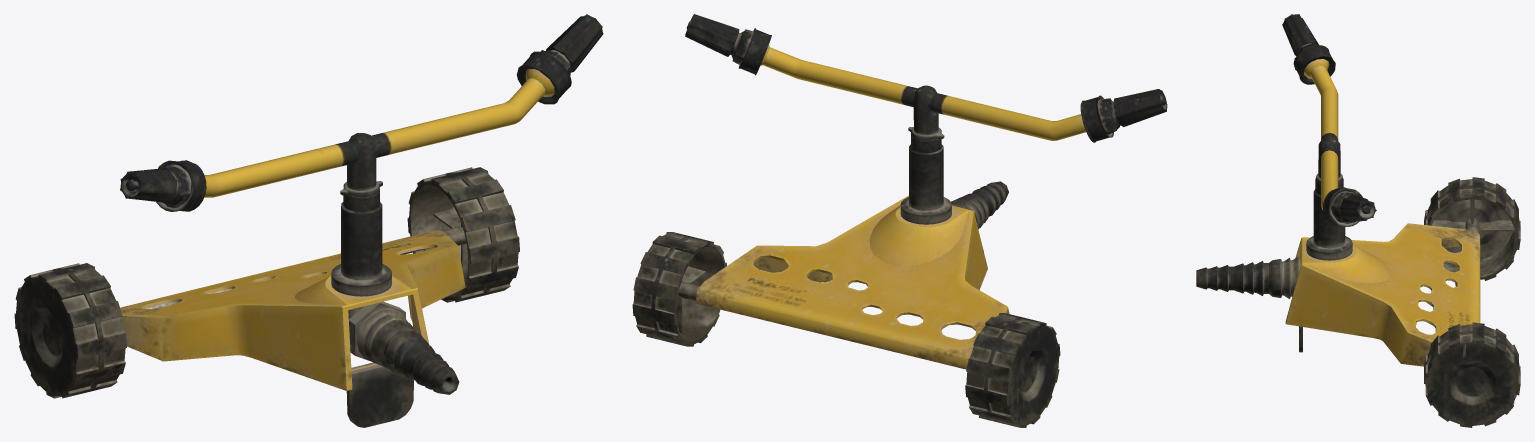
Rendered from sprinkler.glb.
3 renders of one model, left to right at view 1: azimuth 30°, elevation 25°; view 2: azimuth 150°, elevation 25°; view 3: azimuth 270°, elevation 25°, orthographic. The views are drawn at different scales.
Visible parts, largest first — view 1: garden_sprinkler_01_body_main; view 2: garden_sprinkler_01_body_main; view 3: garden_sprinkler_01_body_main.
Part boxes in pixels (x1,y1,x2,y2): garden_sprinkler_01_body_main: (14, 14, 603, 427); garden_sprinkler_01_body_main: (632, 14, 1167, 427); garden_sprinkler_01_body_main: (1196, 14, 1520, 427).
Bounding box in the file's own units: 0.3508 × 0.203 × 0.2491.
1 material, 1 textured.
